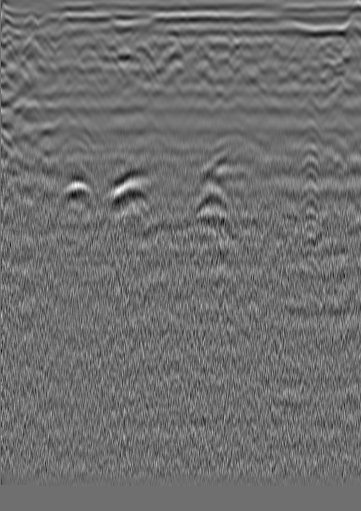가스: (102, 181, 152, 206)
상수: (315, 37, 335, 57)
우수: (159, 25, 179, 45)
